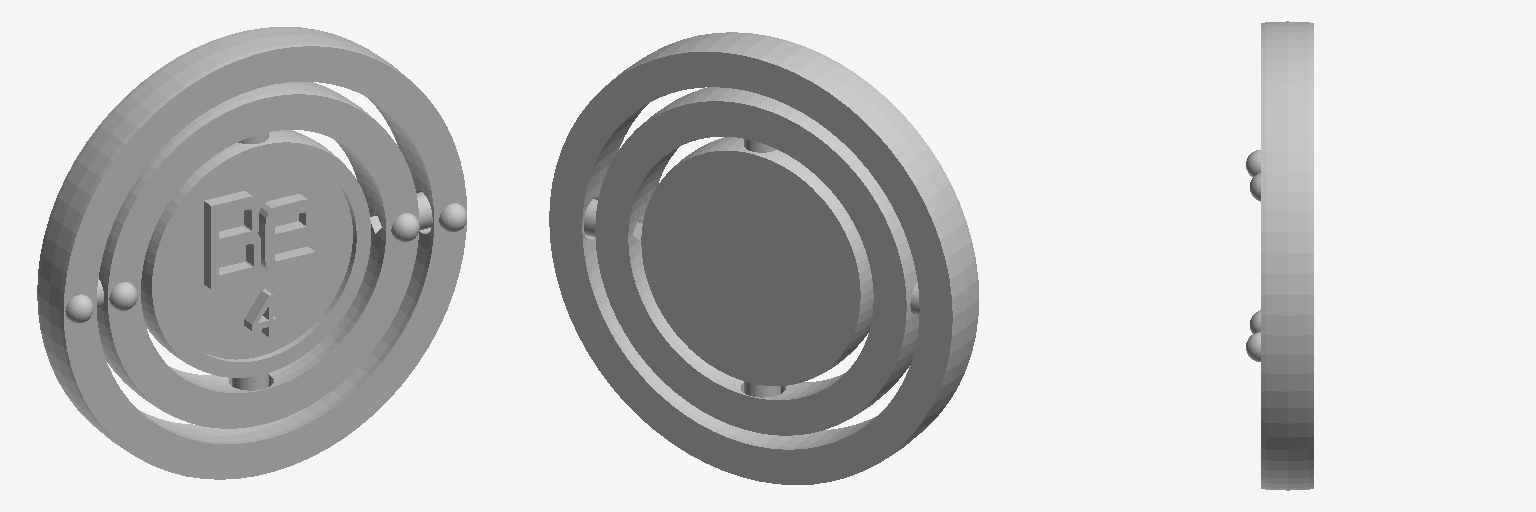
File: 004_-_Be_-_Beryllium.obj
The picture shows the model from 3 angles: view 1: azimuth 30°, elevation 25°; view 2: azimuth 150°, elevation 25°; view 3: azimuth 270°, elevation 25°; orthographic projection.
Visible parts, largest first — view 1: Object.3, Object.1, Object.2; view 2: Object.3, Object.1, Object.2; view 3: Object.3.
Part boxes in pixels (x1,y1,x2,y2): Object.3: (37, 27, 466, 479); Object.1: (141, 130, 370, 390); Object.2: (97, 82, 432, 428); Object.3: (549, 32, 978, 484); Object.1: (641, 137, 873, 397); Object.2: (584, 87, 919, 435); Object.3: (1246, 21, 1313, 490).
Size of the model in its own units: 62 by 61.94 by 9.